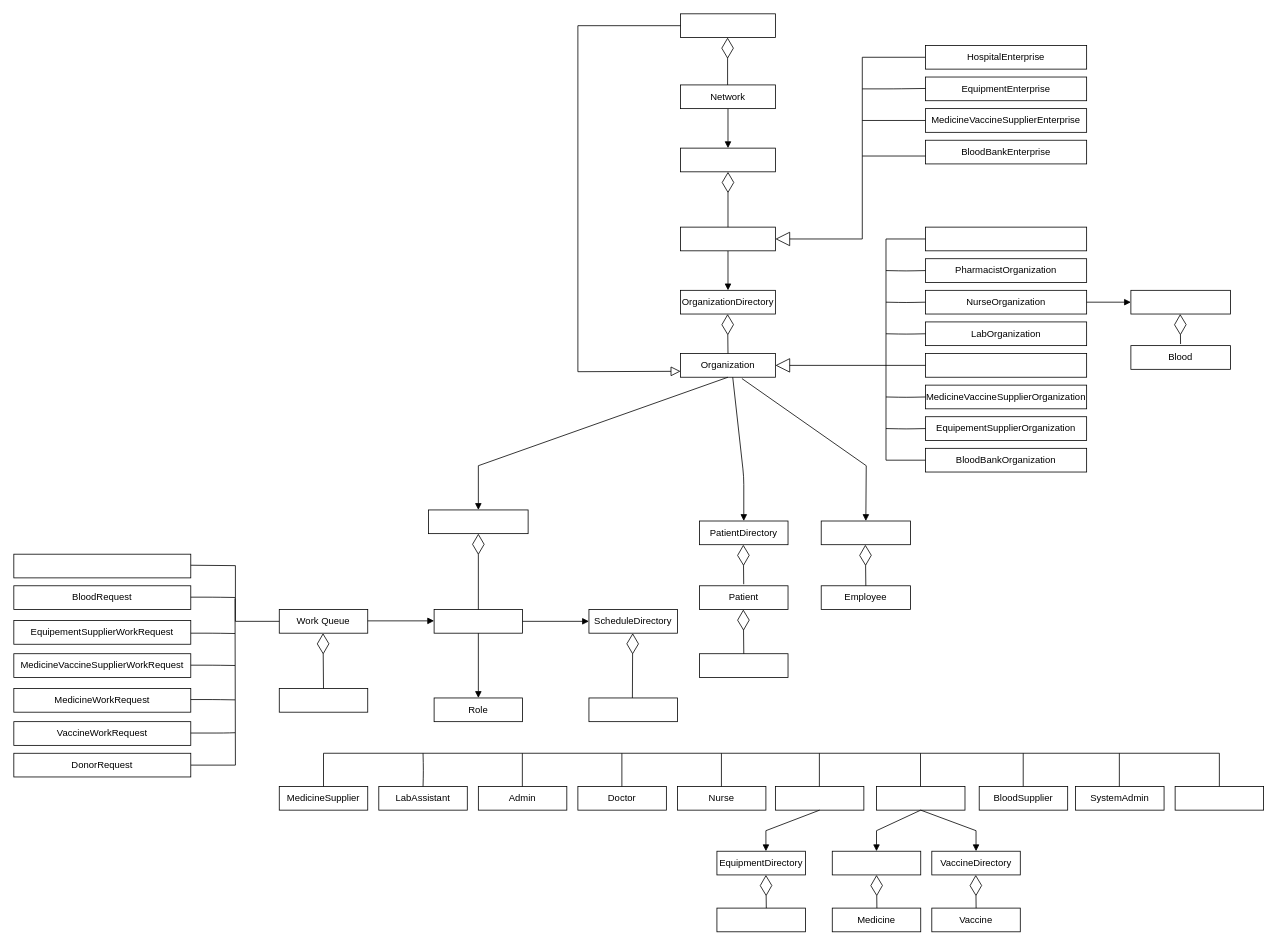
Some shapes in this 1277 by 946 pixel diagram are drawn without their labels. Here are the shapes that lost their labels. From the top down, the centre of each, then its label:
point 727,25: EcoSystem
point 727,159: EnterpriseDirectory
point 727,238: Enterprise
point 1006,238: DoctorOrganization
point 1180,302: BloodDirectory
point 1006,365: AdminOrganization
point 478,521: UserAccountDirectory
point 865,532: EmployeeDirectory
point 102,565: LabTestWorkRequest
point 478,621: UserAccount
point 743,665: VitalSigns
point 323,700: Work Request
point 632,709: Schedule
point 819,798: EquipmentSupplier
point 920,798: Pharmacist
point 1219,798: Donor
point 876,862: MedicineDirectory
point 760,919: Equipment
